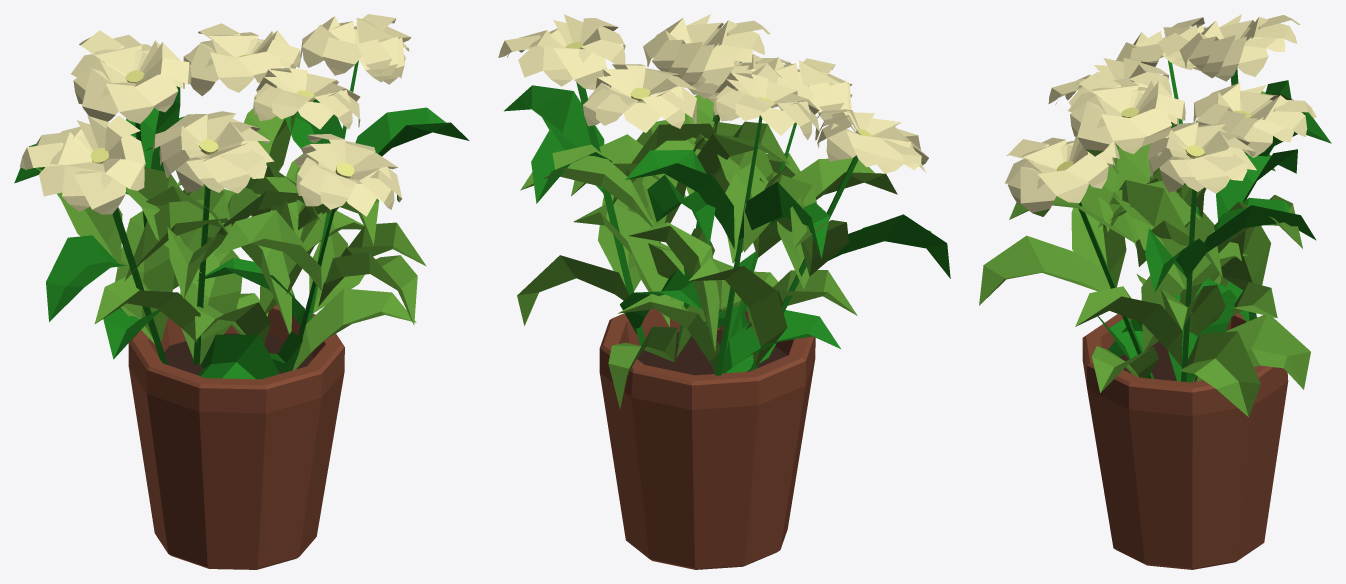
The model's file is flower.fbx.
The picture shows the model from 3 angles, left to right: view 1: azimuth 30°, elevation 25°; view 2: azimuth 150°, elevation 25°; view 3: azimuth 270°, elevation 25°; orthographic projection. The views are drawn at different scales.
Visible parts, largest first — view 1: jasmine.011; view 2: jasmine.011; view 3: jasmine.011.
Part boxes in pixels (x1,y1,x2,y2): jasmine.011: [14, 14, 469, 569]; jasmine.011: [498, 14, 950, 569]; jasmine.011: [979, 14, 1331, 569].
Bounding box in the file's own units: 56.13 × 61 × 40.59.
